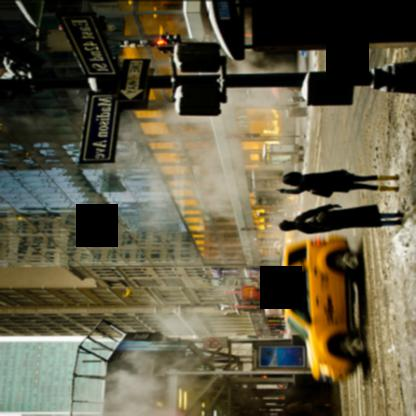handbag: (294, 209, 329, 222), (306, 188, 334, 197)
